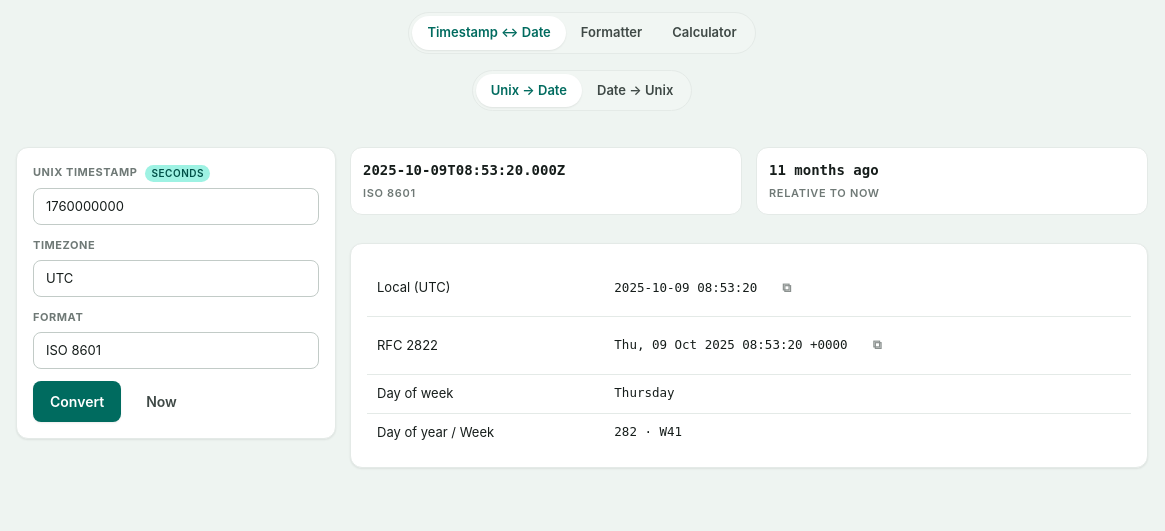
Test: DateToolsPage — calculator add/subtract sub-mode › business-day addition skips a weekend (Friday + 1 = Monday)
Step 1. Click the button "Calculator" → (704, 33), box [657,16,752,50]
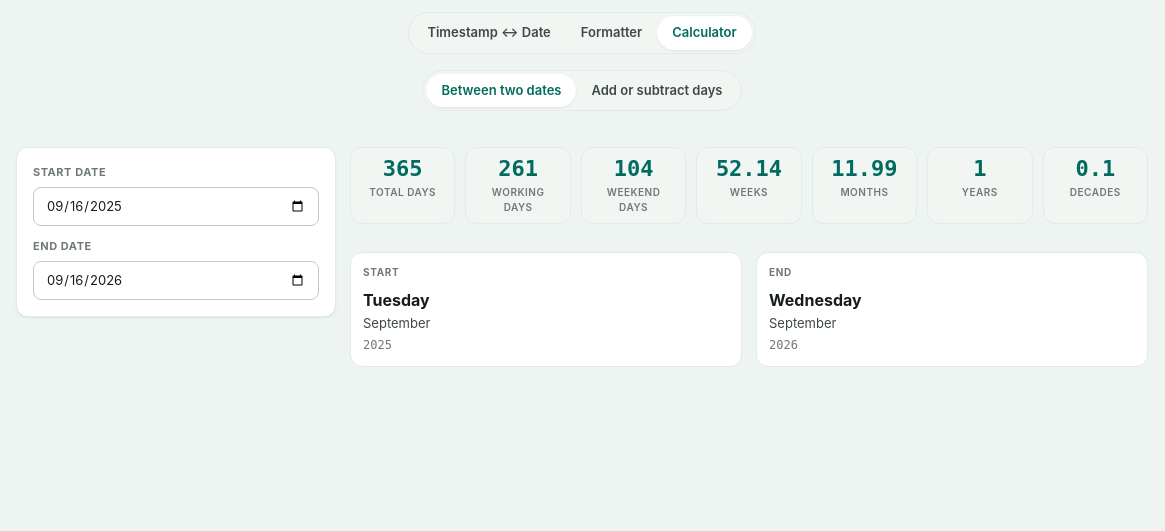
Step 2. Click the button "Add or subtract days" → (657, 90), box [576,74,738,107]
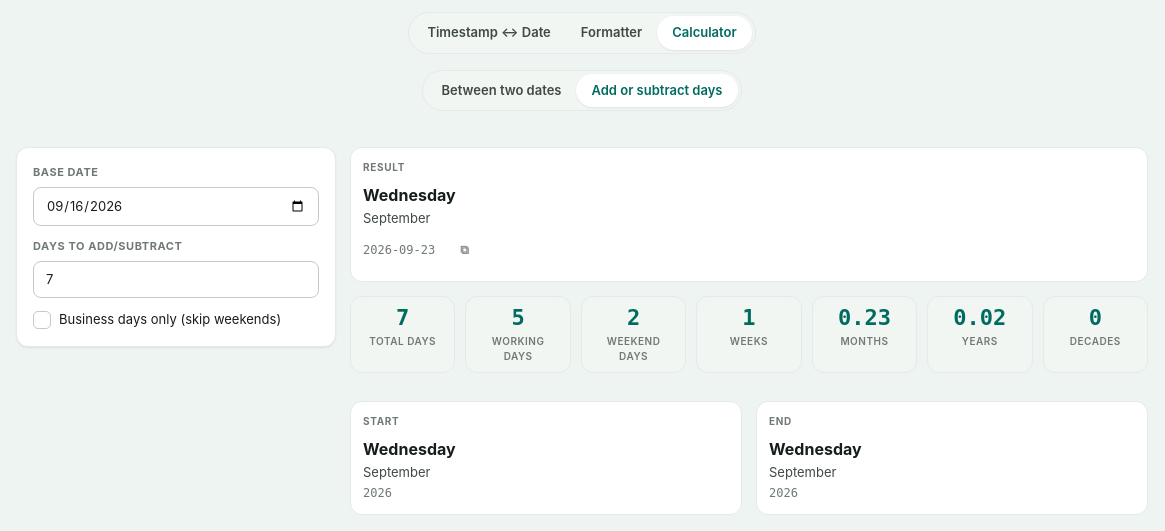
Step 3. Type "2025-01-10" into the date field labelled "Base date" → (176, 206), box [33,186,319,226]
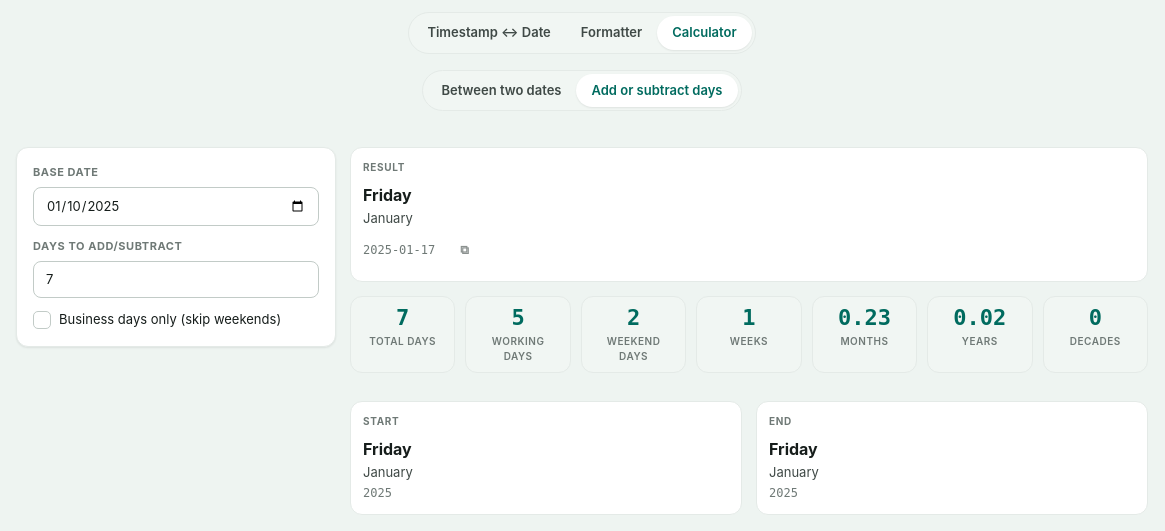
Step 4. Replace the text in the number field labelled "Days to add/subtract" with "1" → (176, 279), box [33,260,319,298]
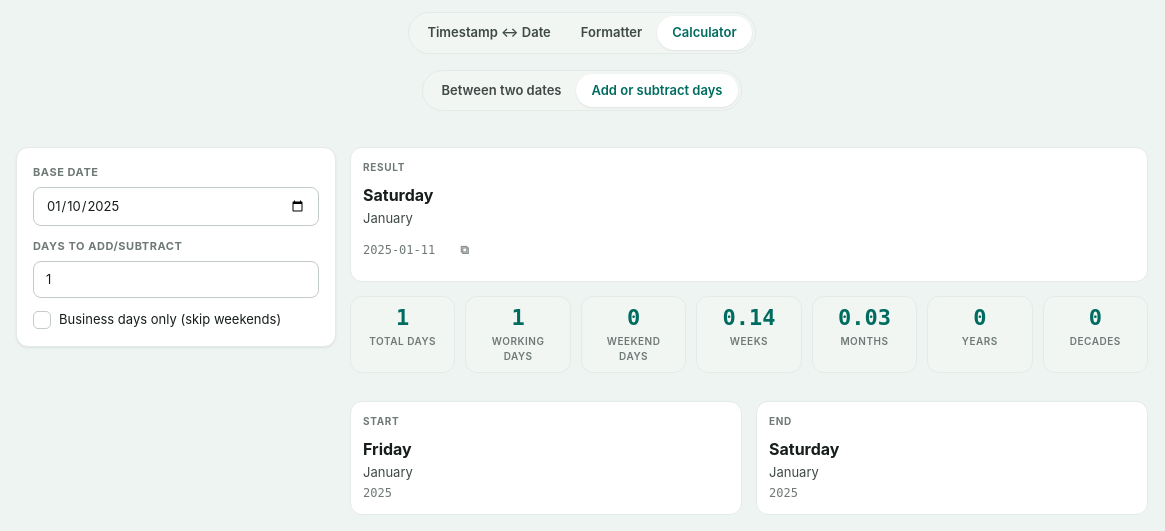
Step 5. Click the checkbox named "business days only" → (42, 320), box [33,311,51,329]
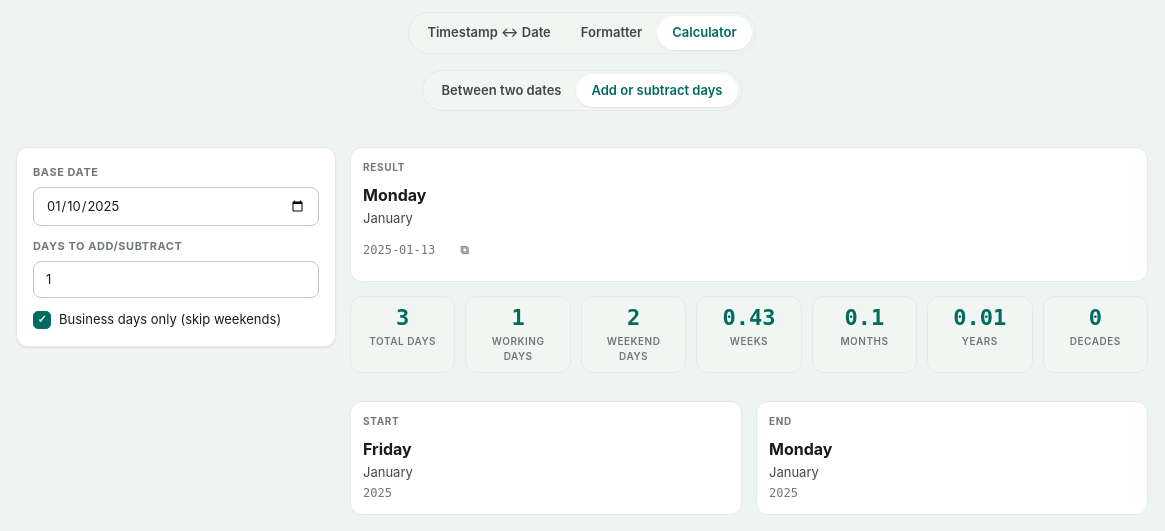
expect the text "Monday" is shown 2 times: met, box [363,185,426,205]; [769,439,832,459]
expect the text "2025-01-13" is shown: met, box [363,242,435,256]
